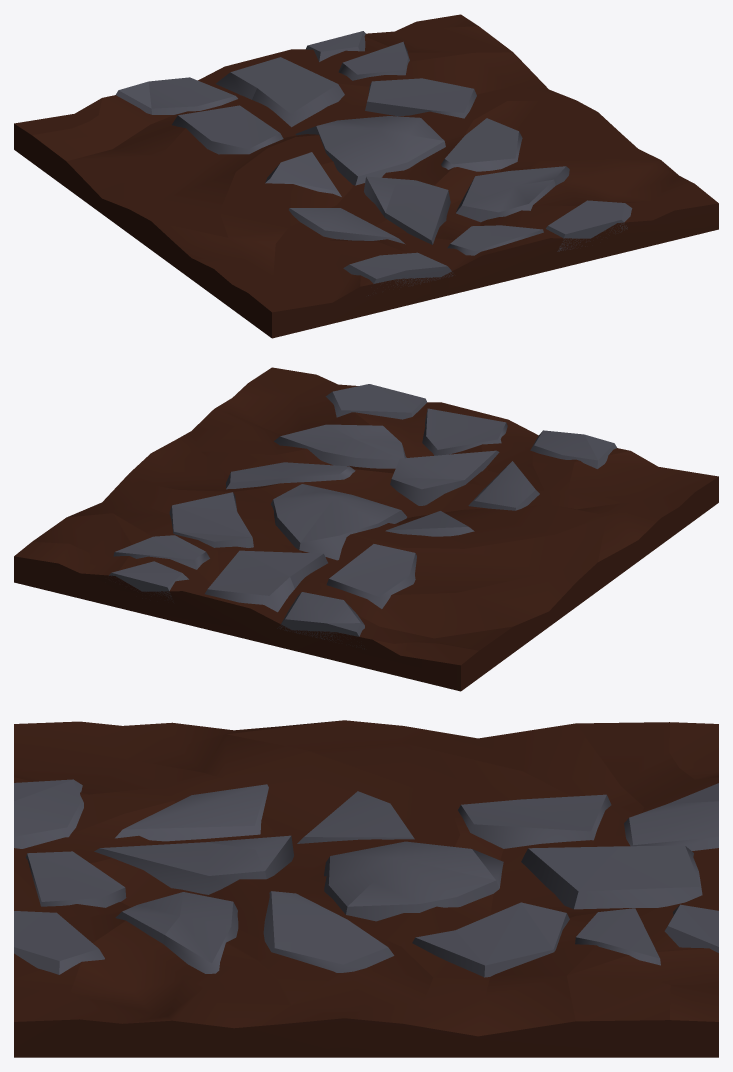
Rendered from Ground_Stone_Path_V.fbx.
3 renders of one model, top to bottom at view 1: azimuth 30°, elevation 25°; view 2: azimuth 150°, elevation 25°; view 3: azimuth 270°, elevation 25°, orthographic. The views are drawn at different scales.
Visible parts, largest first — view 1: Ground_Stone_Path_V; view 2: Ground_Stone_Path_V; view 3: Ground_Stone_Path_V.
Part boxes in pixels (box(x1,y1,x2,y2)): Ground_Stone_Path_V: box(14, 14, 718, 338); Ground_Stone_Path_V: box(14, 367, 718, 691); Ground_Stone_Path_V: box(14, 720, 718, 1057).
Bounding box in the file's own units: 147 × 15.12 × 147.
